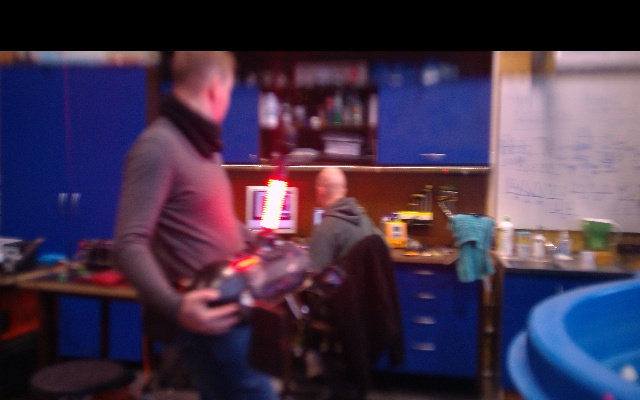red: (260, 178, 290, 233)
